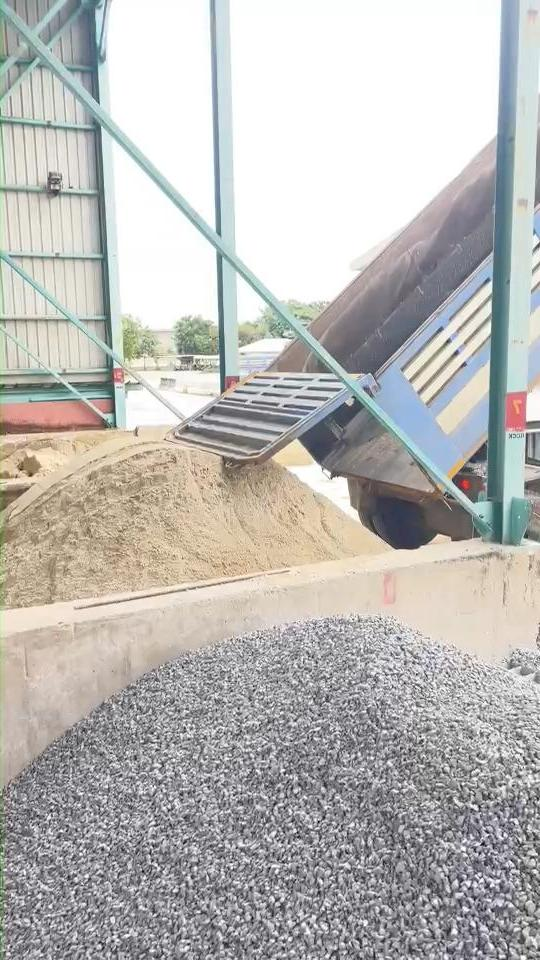gravel: (5, 616, 540, 959), (506, 646, 540, 683)
sand: (3, 442, 387, 607), (1, 432, 114, 478)
